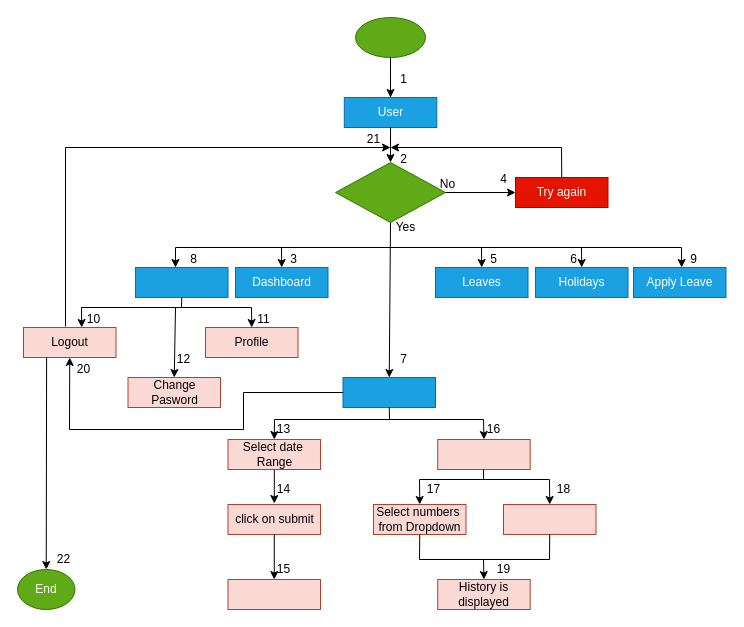
This 744x627 diagram has some shape labels left out. Each missing label, with the centre of its shape:
"Attendence History" goes at pixel 483 454.
"data is displayed" goes at pixel 273 594.
"Login with Valid Data" goes at pixel 390 192.
"My Attendence" goes at pixel 389 392.
"Profile Dropdown" goes at pixel 181 282.
"search by date" goes at pixel 549 519.
"Start" goes at pixel 390 37.
